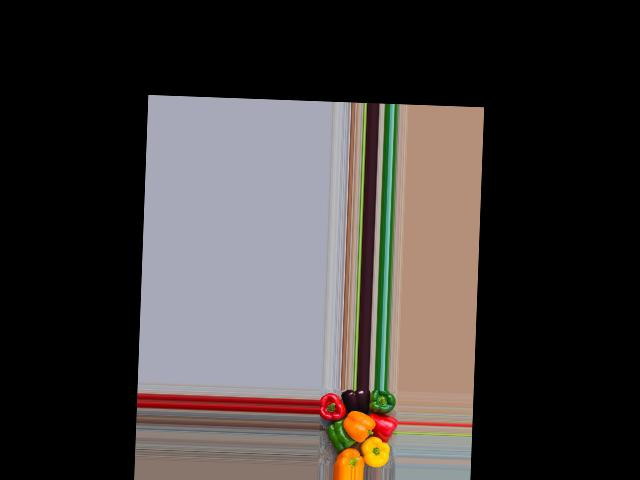bell_pepper: (326, 440, 364, 467)
